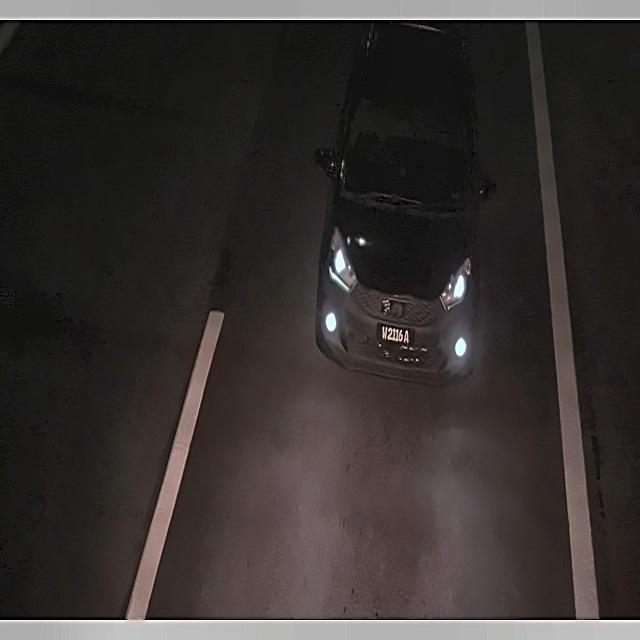car: (371, 318, 419, 353)
